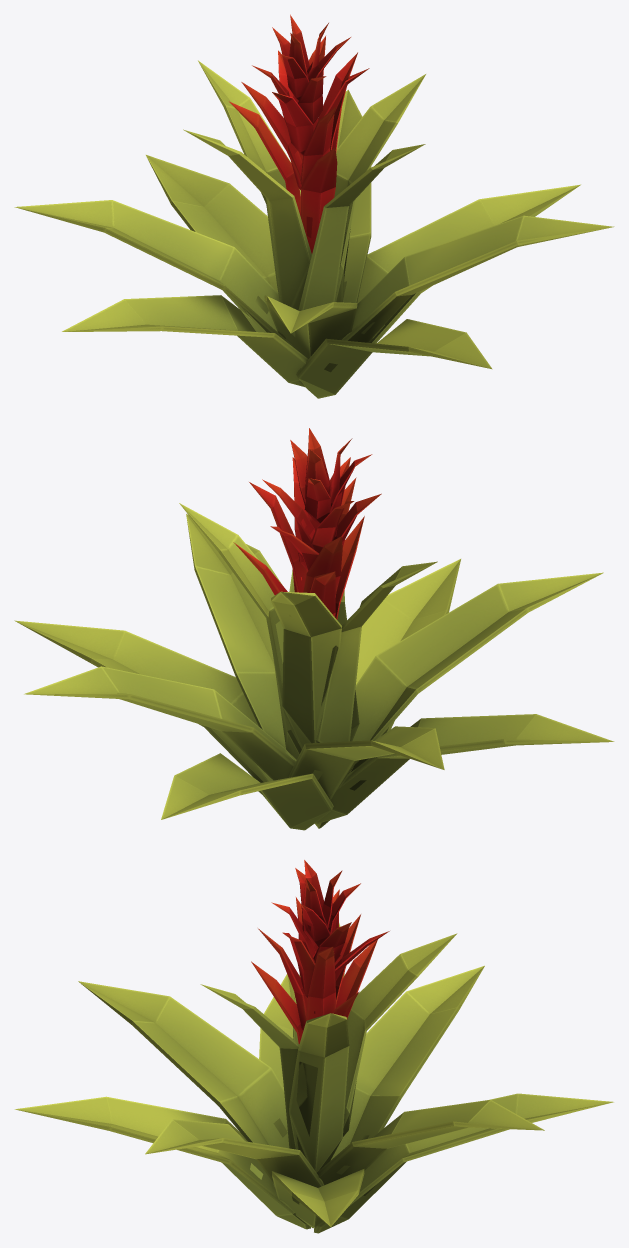
The model's file is Bromeliads.obj.
3 views of the same model, one above another, from view 1: azimuth 30°, elevation 25°; view 2: azimuth 150°, elevation 25°; view 3: azimuth 270°, elevation 25° (orthographic). The views are drawn at different scales.
Parts seen in each view (by area): view 1: Bromeliads; view 2: Bromeliads; view 3: Bromeliads.
Part boxes in pixels (x1,y1,x2,y2): Bromeliads: [14, 14, 614, 398]; Bromeliads: [14, 428, 614, 830]; Bromeliads: [15, 860, 613, 1233].
Size of the model in its own units: 0.9431 by 0.6207 by 0.9474.
Materials: 1 (1 with a texture image).
